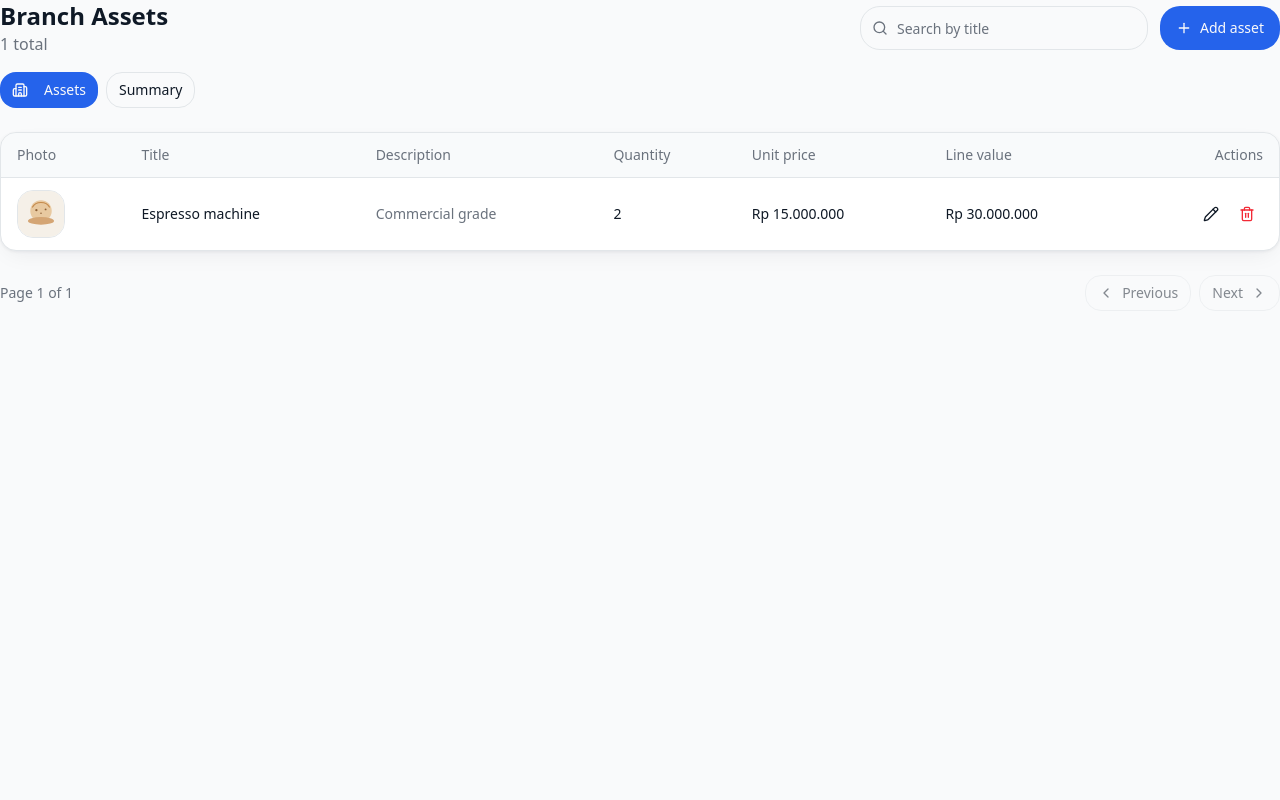
Test: AdminBranchAssetsPage › maps server validation errors onto form fields
Expected: the text "Espresso machine" is shown, [126,178,360,250]
Click the button "Add asset" at point(1220, 28), box [1160,6,1279,50]
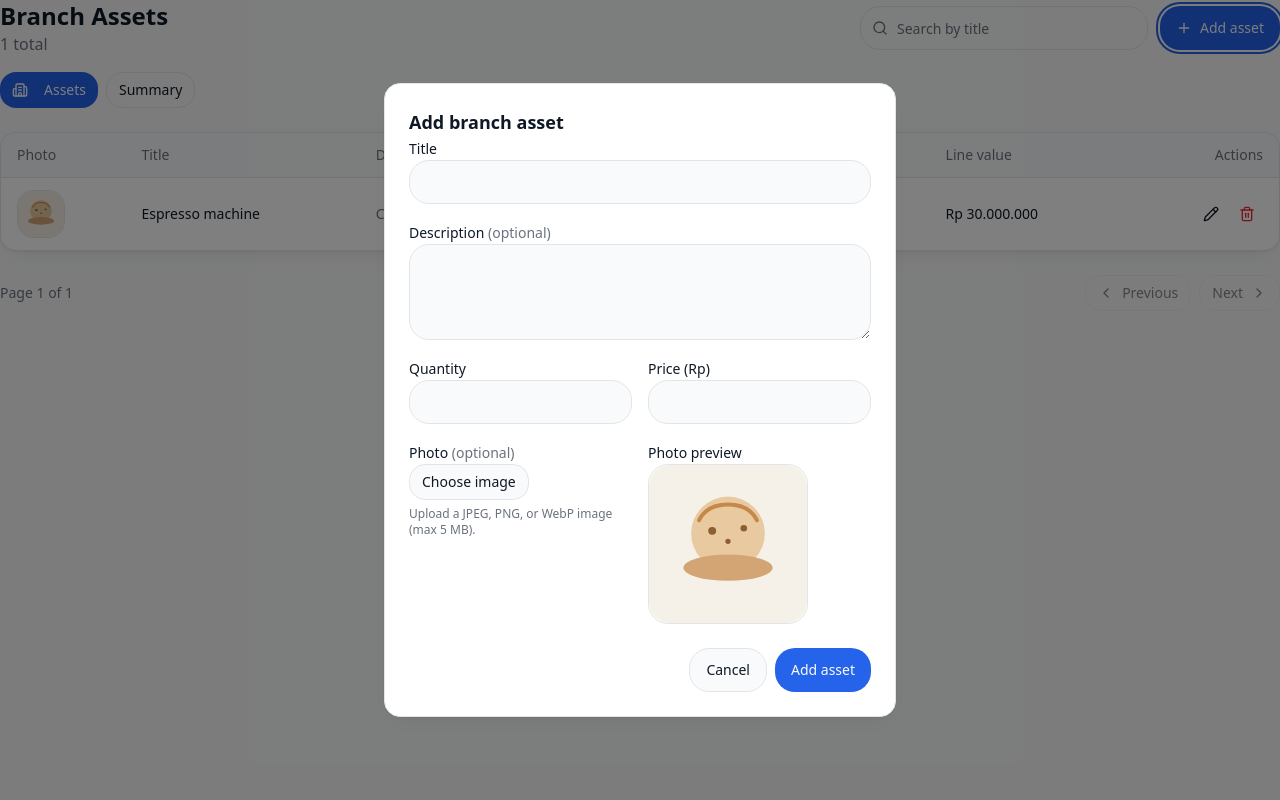
Type "Chair" into the field labelled "Title" at point(640, 182), box [409,160,871,204]
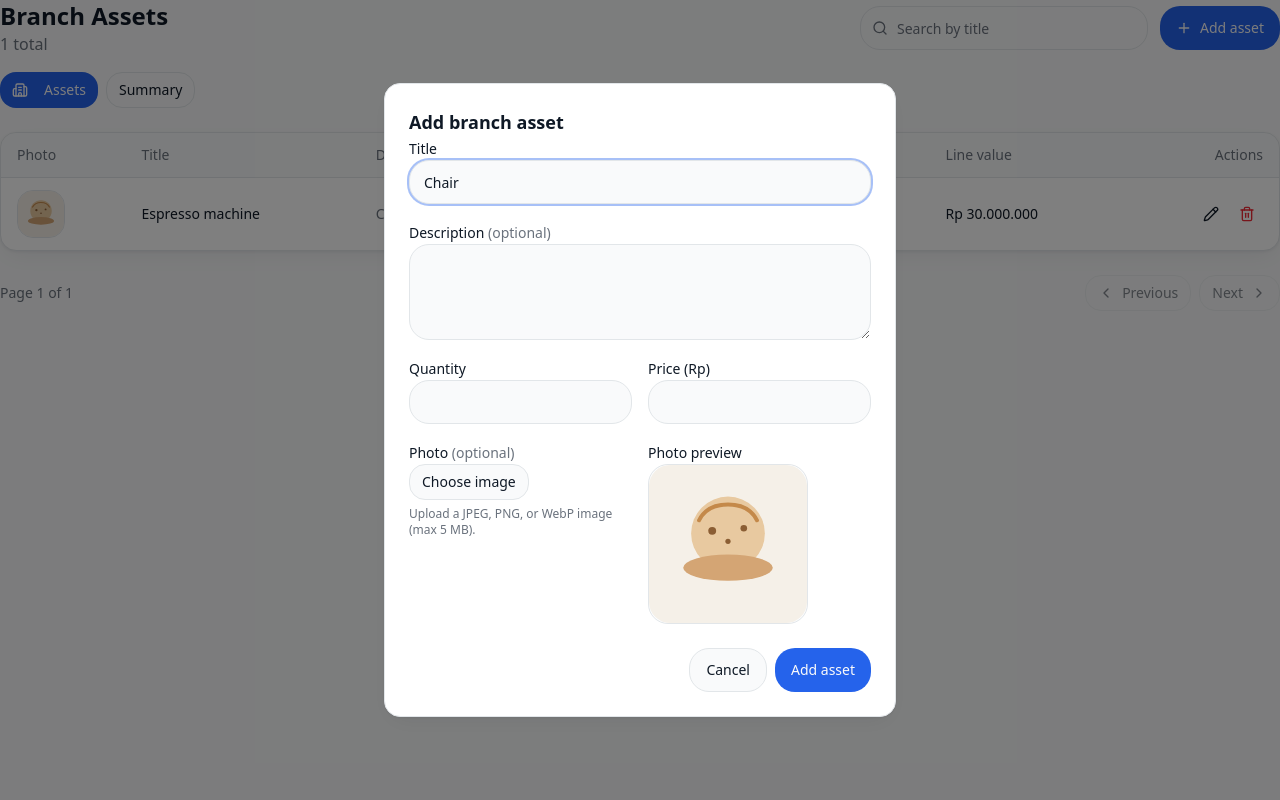
Type "1" into the number field labelled "Quantity" at point(520, 402), box [409,380,632,424]
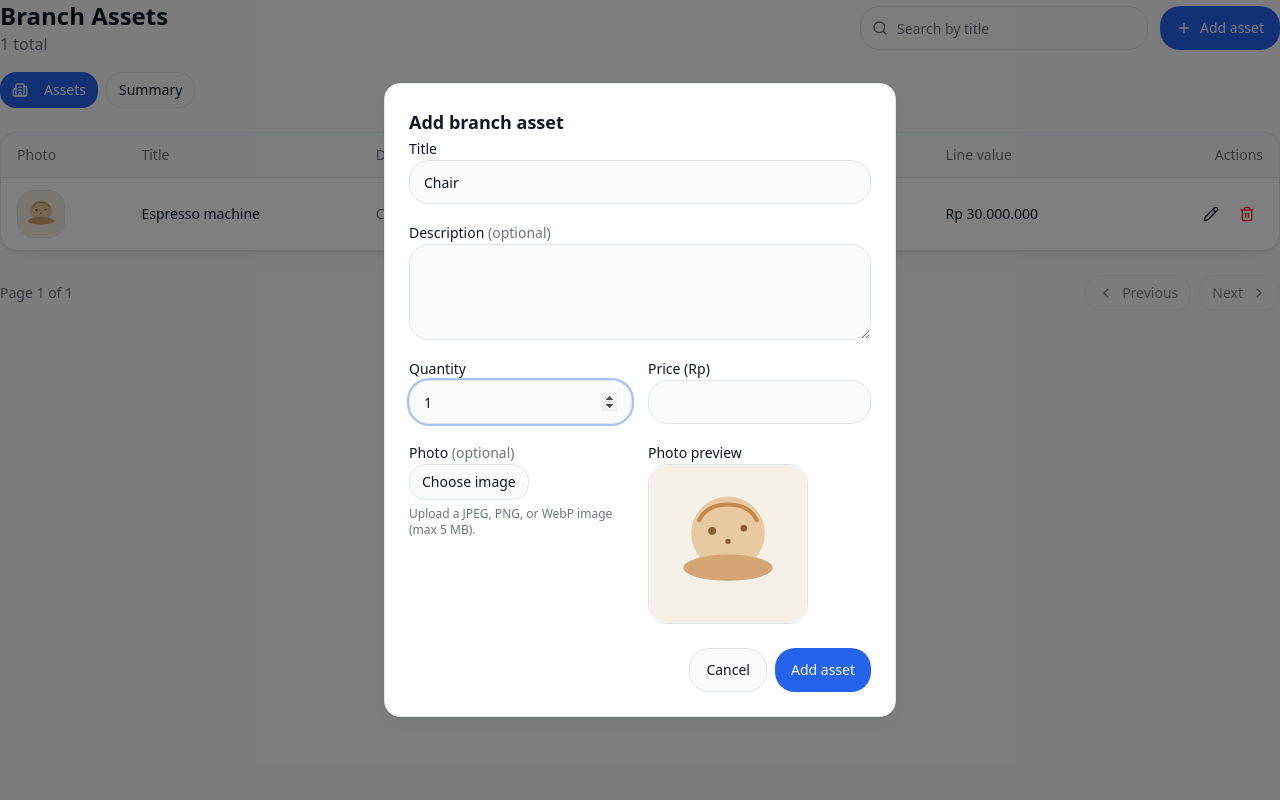
Type "1000" into the number field labelled "Price (Rp)" at point(760, 402), box [648,380,871,424]
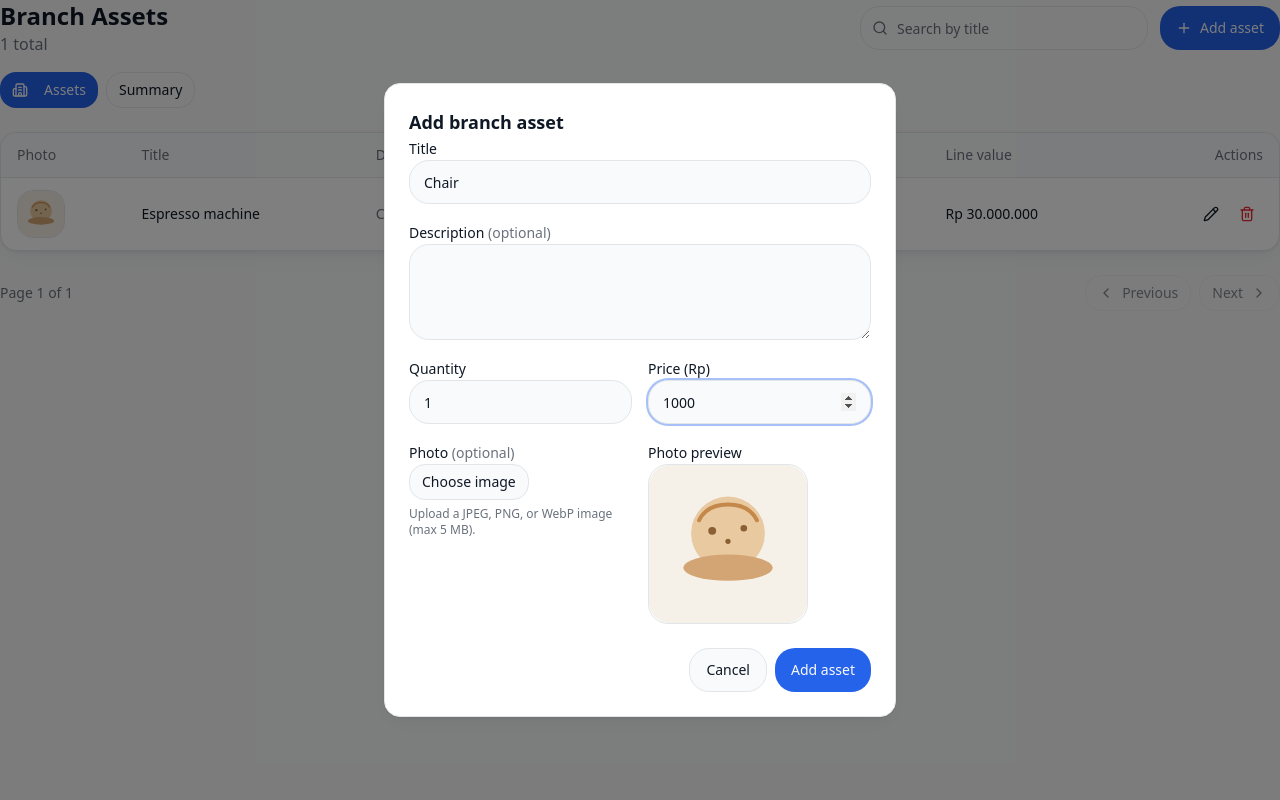
Click the button "Add asset" at point(823, 670), box [775,648,871,692]
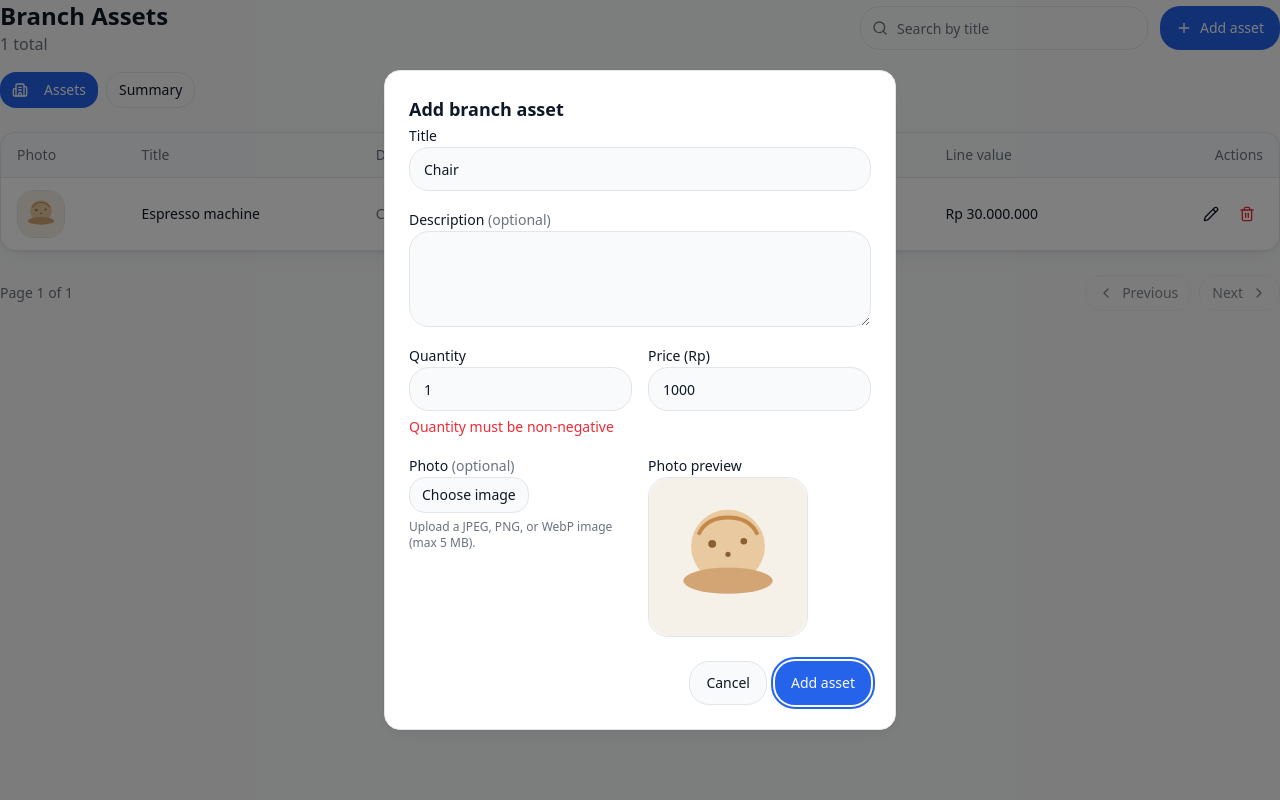
Expected: the dialog is shown, [384,70,896,730]
Expected: the text "Quantity must be non-negative" is shown, [409,417,632,437]
